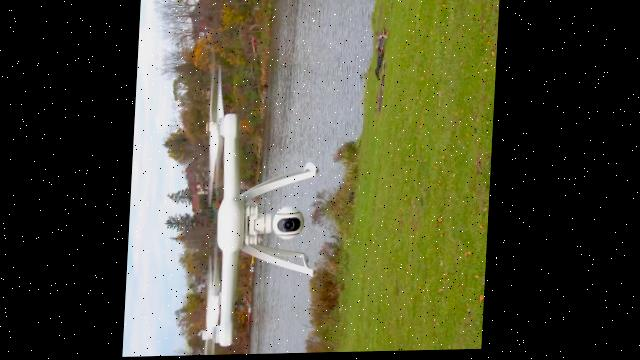drone: (133, 53, 385, 357)
